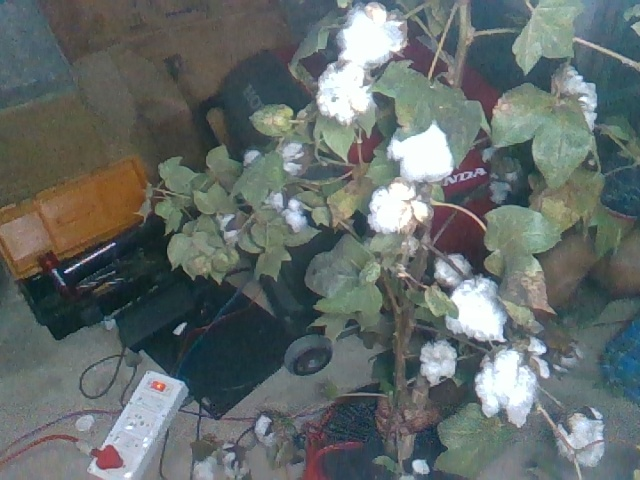cotton: (473, 351, 540, 427), (334, 5, 410, 68), (387, 118, 458, 183), (311, 59, 376, 126), (548, 406, 610, 472), (447, 276, 508, 340), (365, 181, 432, 231), (554, 61, 598, 132), (428, 247, 478, 287), (417, 339, 459, 383)
